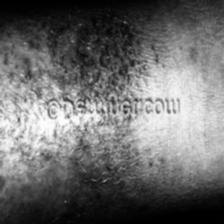Non-Cancerous Skin Condition: (52, 10, 154, 199), (0, 40, 38, 188)
